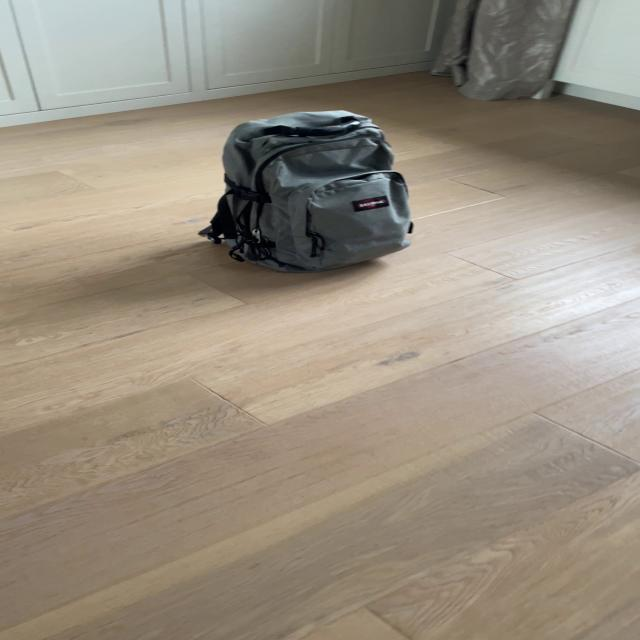backpack: (196, 102, 420, 278)
